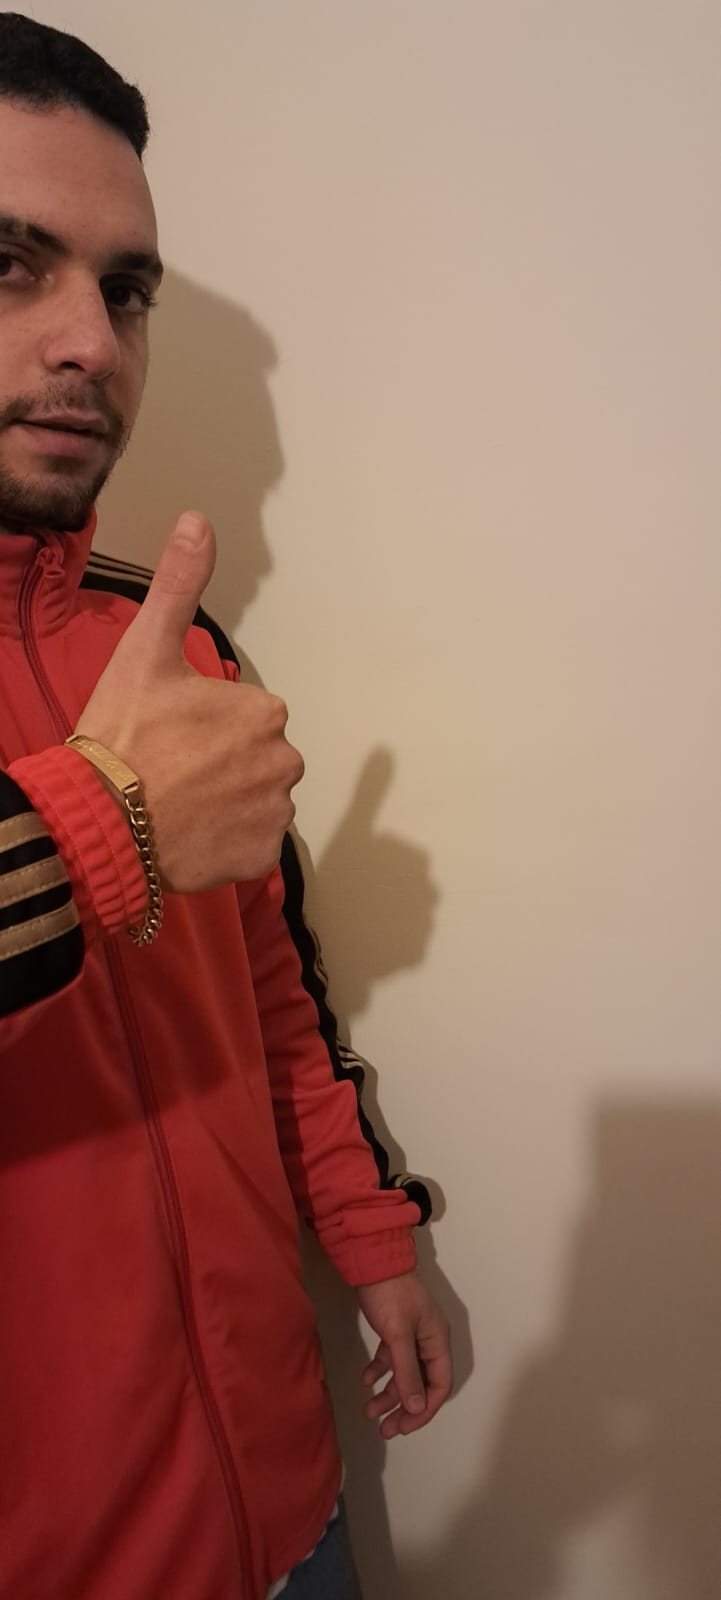okay: (113, 506, 315, 914)
